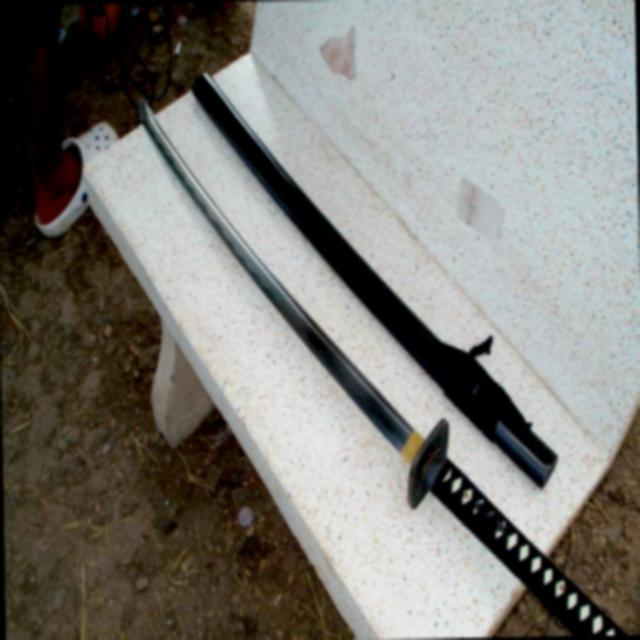long sword: (118, 64, 575, 613)
